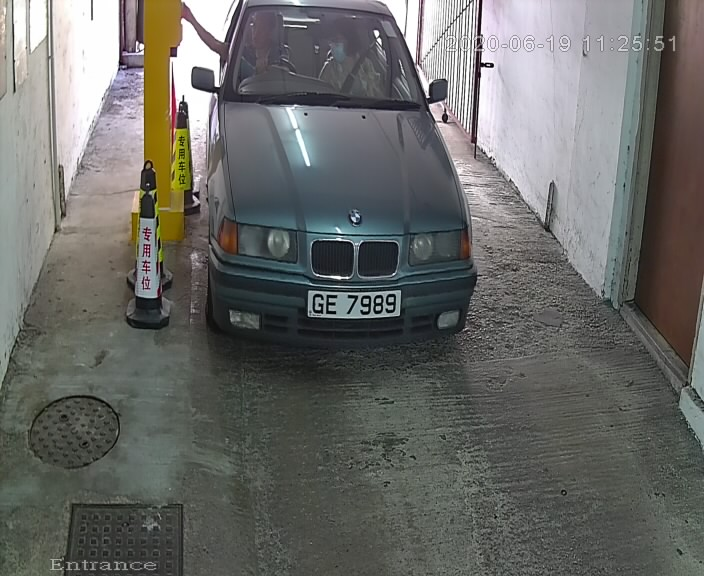privatecar: (186, 3, 480, 353)
